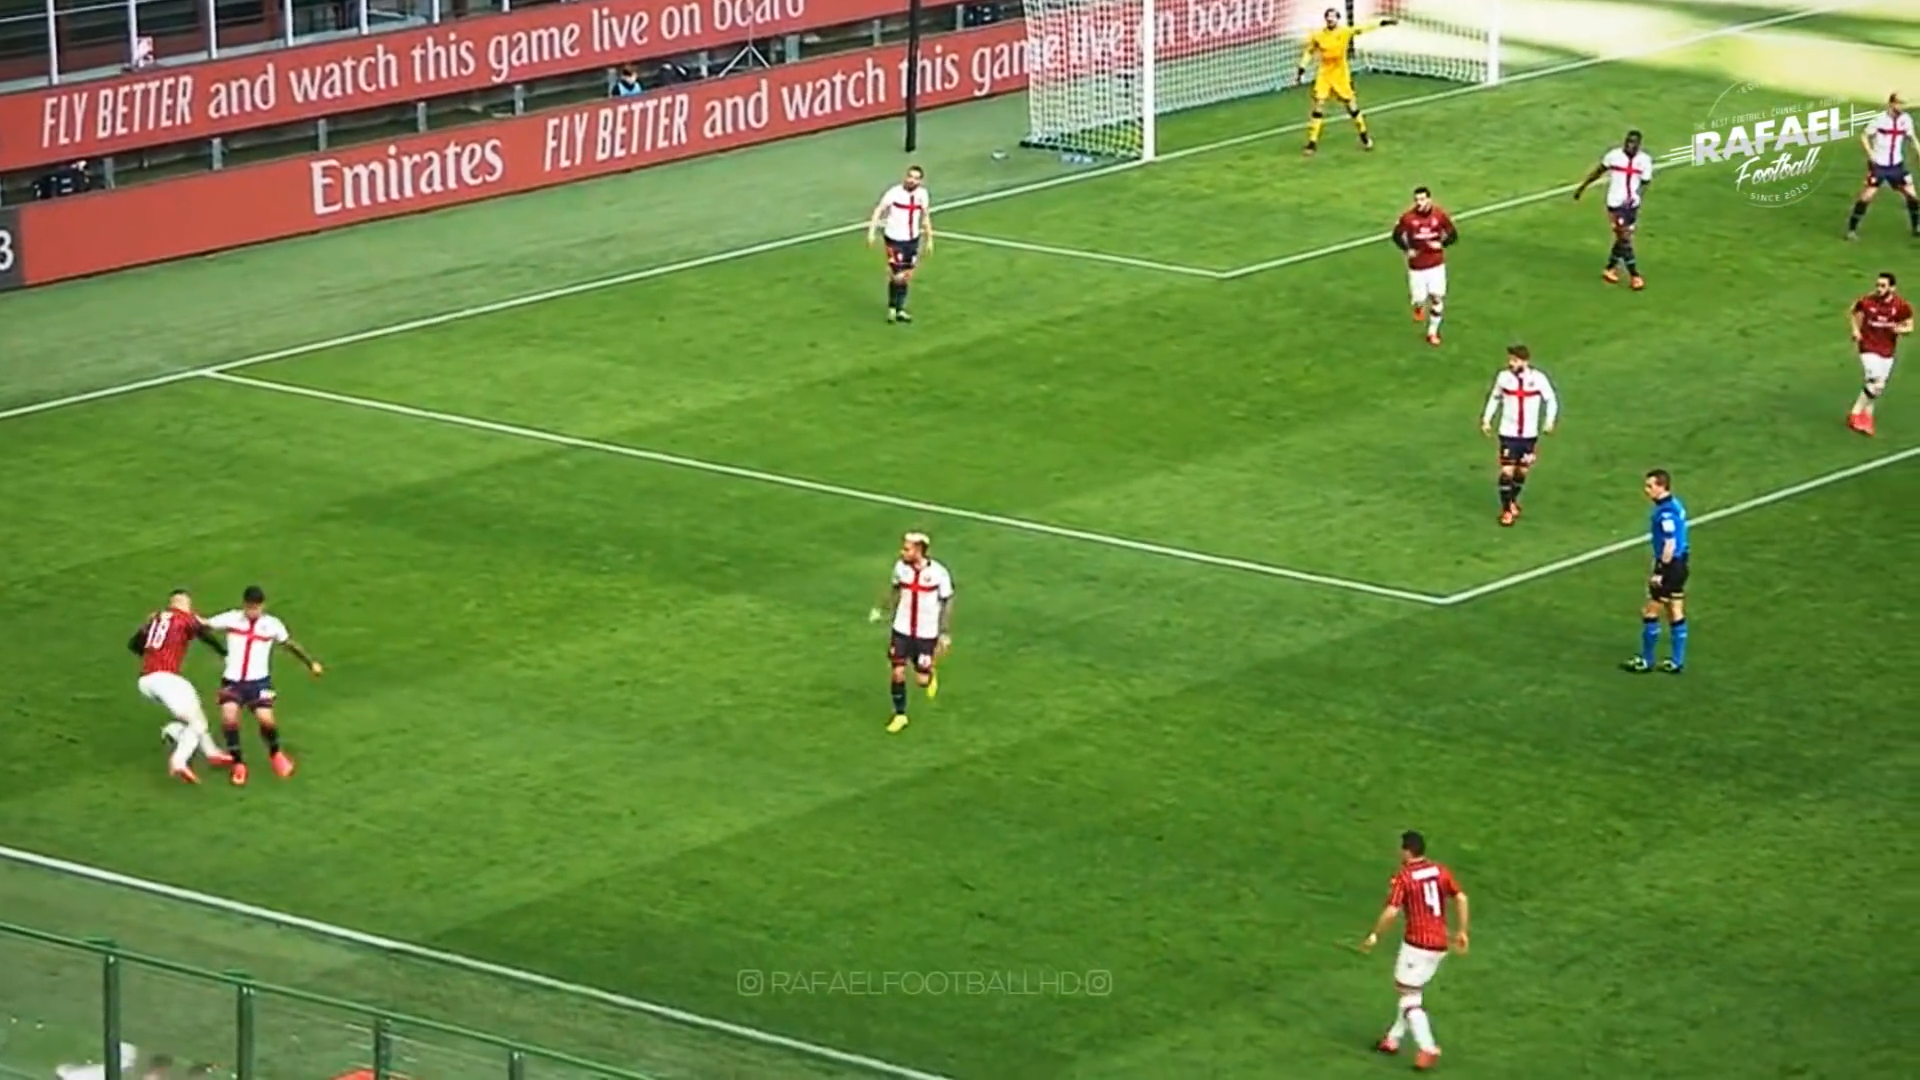ft: (156, 720, 189, 746)
